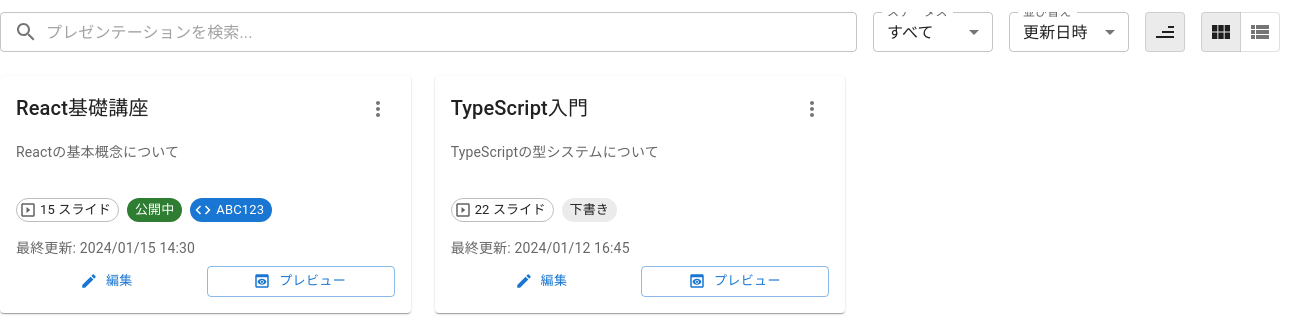
PresentationList › 検索機能が動作する
Type "React" into the field with placeholder "プレゼンテーションを検索...".
click(452, 32); type("React")  # box [46, 12, 857, 52]
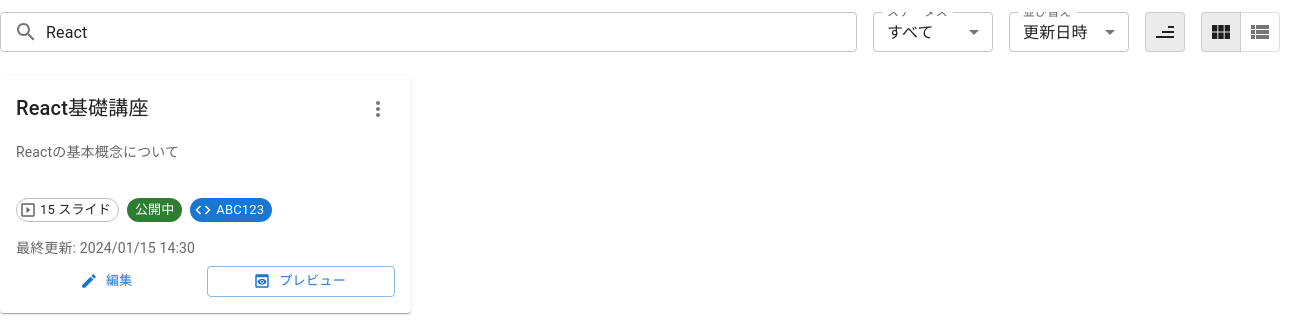
Expected: the heading "React基礎講座" is shown, [16, 96, 148, 120]
Now the heading "TypeScript入門" is gone
